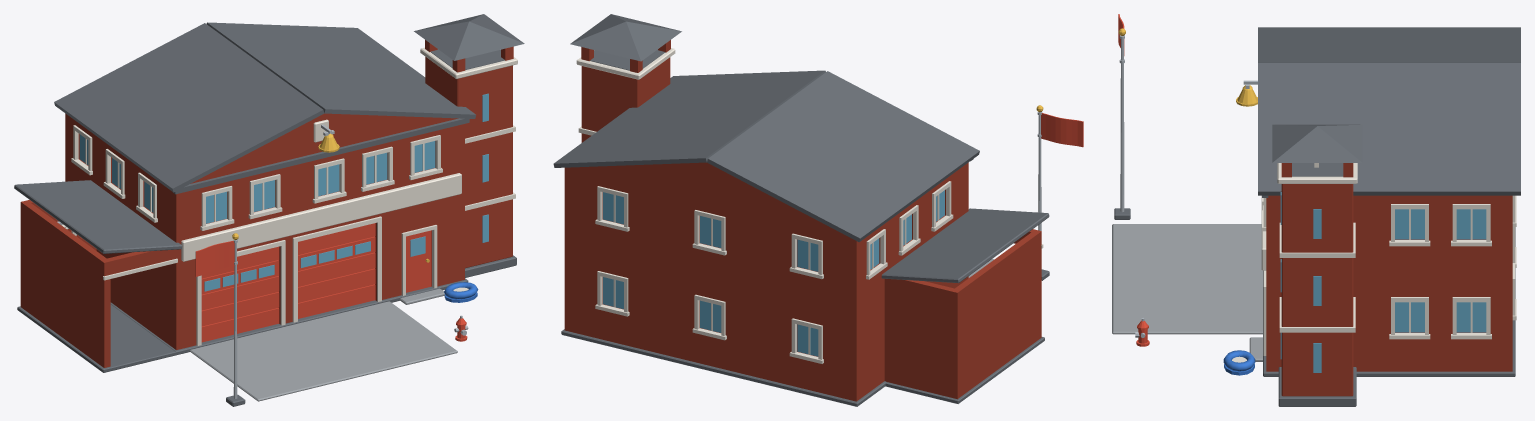
File: brick-fire-station.glb
3 views of the same model, side by side, from view 1: azimuth 30°, elevation 25°; view 2: azimuth 150°, elevation 25°; view 3: azimuth 270°, elevation 25° (orthographic). The views are drawn at different scales.
Visible parts, largest first — view 1: Station_Building, HoseBay, HoseTower, Driveway, GarageDoor_2, GarageDoor_1, Flagpole, Door, Bell, DogBed; view 2: Station_Building, HoseBay, HoseTower, Flagpole; view 3: Station_Building, HoseTower, Driveway, Flagpole, DogBed, Bell.
Boxes of the visible parts, left/top/right/bottom form: Station_Building: left=54, top=22, right=475, bottom=355; HoseBay: left=14, top=180, right=182, bottom=372; HoseTower: left=414, top=14, right=524, bottom=277; Driveway: left=189, top=301, right=457, bottom=401; GarageDoor_2: left=298, top=223, right=375, bottom=318; GarageDoor_1: left=201, top=246, right=279, bottom=342; Flagpole: left=195, top=233, right=245, bottom=406; Door: left=406, top=230, right=431, bottom=292; Bell: left=313, top=119, right=339, bottom=152; DogBed: left=444, top=282, right=478, bottom=302; Station_Building: left=553, top=70, right=979, bottom=406; HoseBay: left=881, top=208, right=1049, bottom=403; HoseTower: left=570, top=14, right=681, bottom=142; Flagpole: left=1036, top=105, right=1083, bottom=280; Station_Building: left=1249, top=27, right=1520, bottom=376; HoseTower: left=1272, top=124, right=1362, bottom=406; Driveway: left=1112, top=224, right=1262, bottom=334; Flagpole: left=1114, top=14, right=1130, bottom=219; DogBed: left=1223, top=350, right=1255, bottom=375; Bell: left=1236, top=80, right=1257, bottom=106.
Size of the model in its own units: 53.35 by 28.46 by 39.8.
